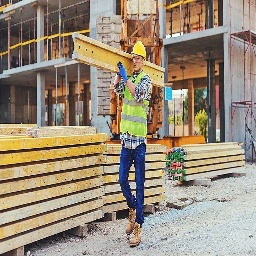helmet: (130, 42, 146, 62)
person: (118, 44, 161, 251)
vest: (118, 71, 152, 143)
